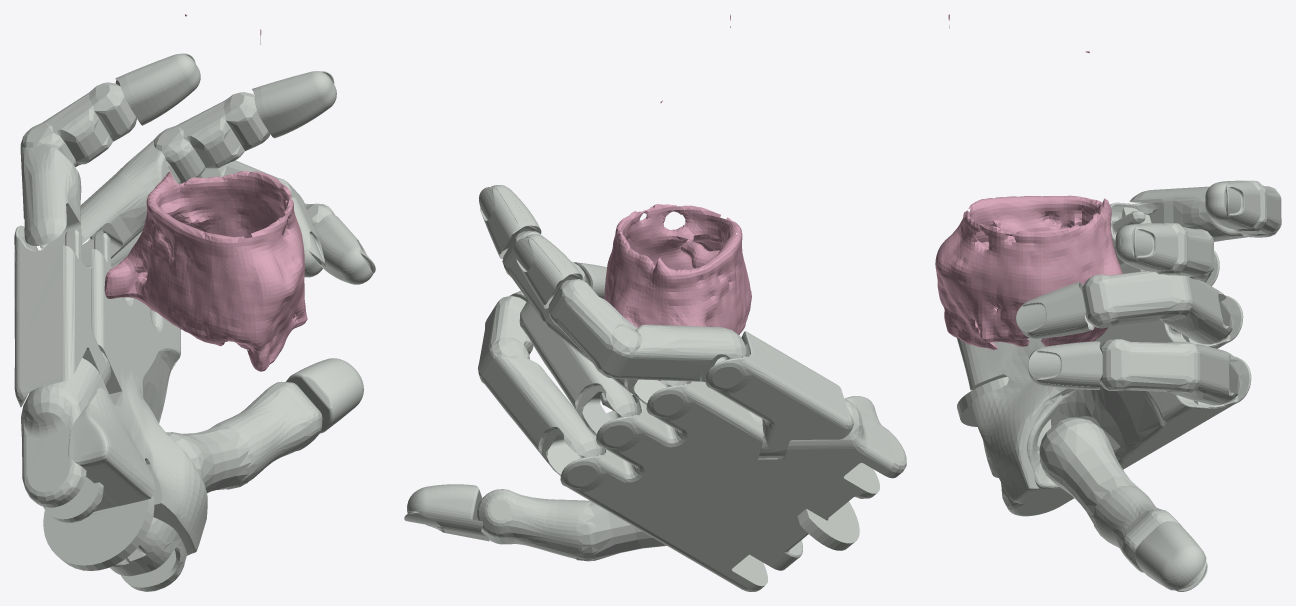
3 renders of one model, left to right at view 1: azimuth 30°, elevation 25°; view 2: azimuth 150°, elevation 25°; view 3: azimuth 270°, elevation 25°, orthographic. The views are drawn at different scales.
Visible parts, largest first — view 1: hand, world; view 2: hand, world; view 3: hand, world.
Part boxes in pixels (<box>): hand: <box>14,53,375,591</box>; world: <box>104,14,307,371</box>; hand: <box>404,185,906,591</box>; world: <box>604,14,751,380</box>; hand: <box>957,180,1281,591</box>; world: <box>935,14,1122,350</box>.
Bounding box in the file's own units: 0.1662 × 0.2107 × 0.1238.
